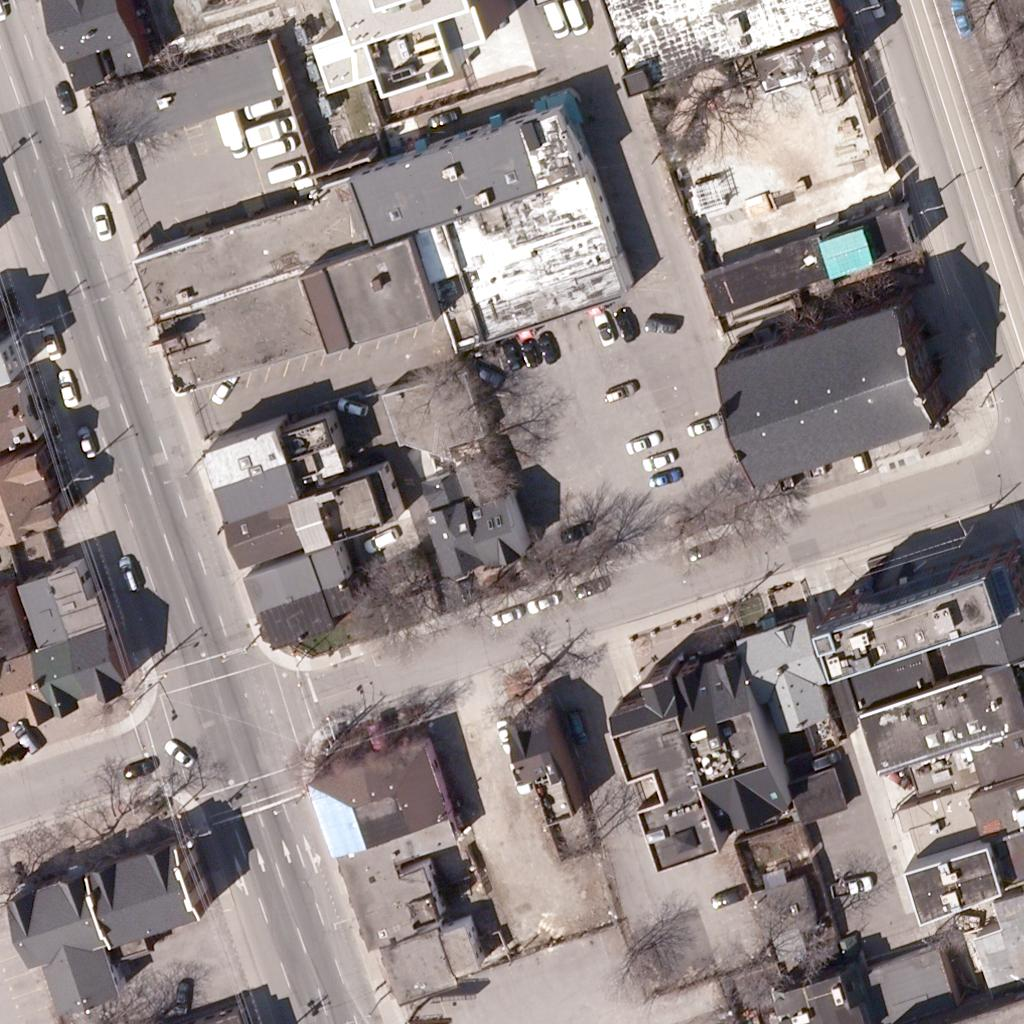car: (942, 0, 976, 34), (559, 3, 593, 37), (538, 5, 572, 39), (49, 80, 83, 114), (240, 92, 274, 126), (424, 102, 458, 136), (259, 109, 293, 143), (217, 126, 251, 160), (261, 129, 295, 163), (273, 154, 307, 188), (83, 205, 117, 239), (606, 306, 640, 340), (643, 309, 677, 343), (586, 313, 620, 347), (32, 325, 66, 359), (530, 331, 564, 365), (511, 334, 545, 368), (494, 335, 528, 369), (469, 358, 503, 392), (205, 371, 239, 405), (49, 373, 83, 407), (601, 375, 635, 409), (334, 391, 368, 425), (683, 410, 717, 444), (623, 426, 657, 460), (624, 426, 658, 460), (68, 429, 102, 463), (840, 442, 874, 476), (643, 443, 677, 477), (643, 461, 677, 495), (560, 514, 594, 548), (360, 526, 394, 560), (684, 530, 718, 564), (112, 560, 146, 594), (570, 570, 604, 604), (527, 584, 561, 618), (488, 598, 522, 632), (560, 709, 594, 743), (486, 720, 520, 754), (6, 721, 40, 755), (161, 738, 195, 772), (809, 745, 843, 779), (123, 751, 157, 785), (504, 767, 538, 801), (832, 869, 866, 903), (708, 881, 742, 915), (163, 979, 197, 1013), (856, 0, 890, 18)
